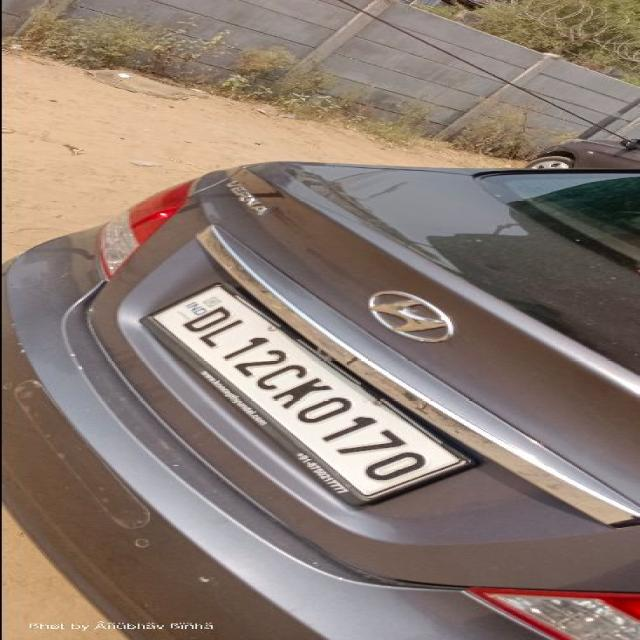license_plate: (138, 281, 476, 506)
